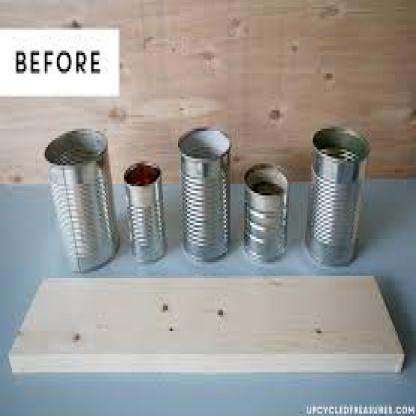METAL: (42, 126, 120, 266), (304, 122, 369, 266), (176, 124, 230, 262), (242, 161, 289, 264), (122, 159, 164, 264)
